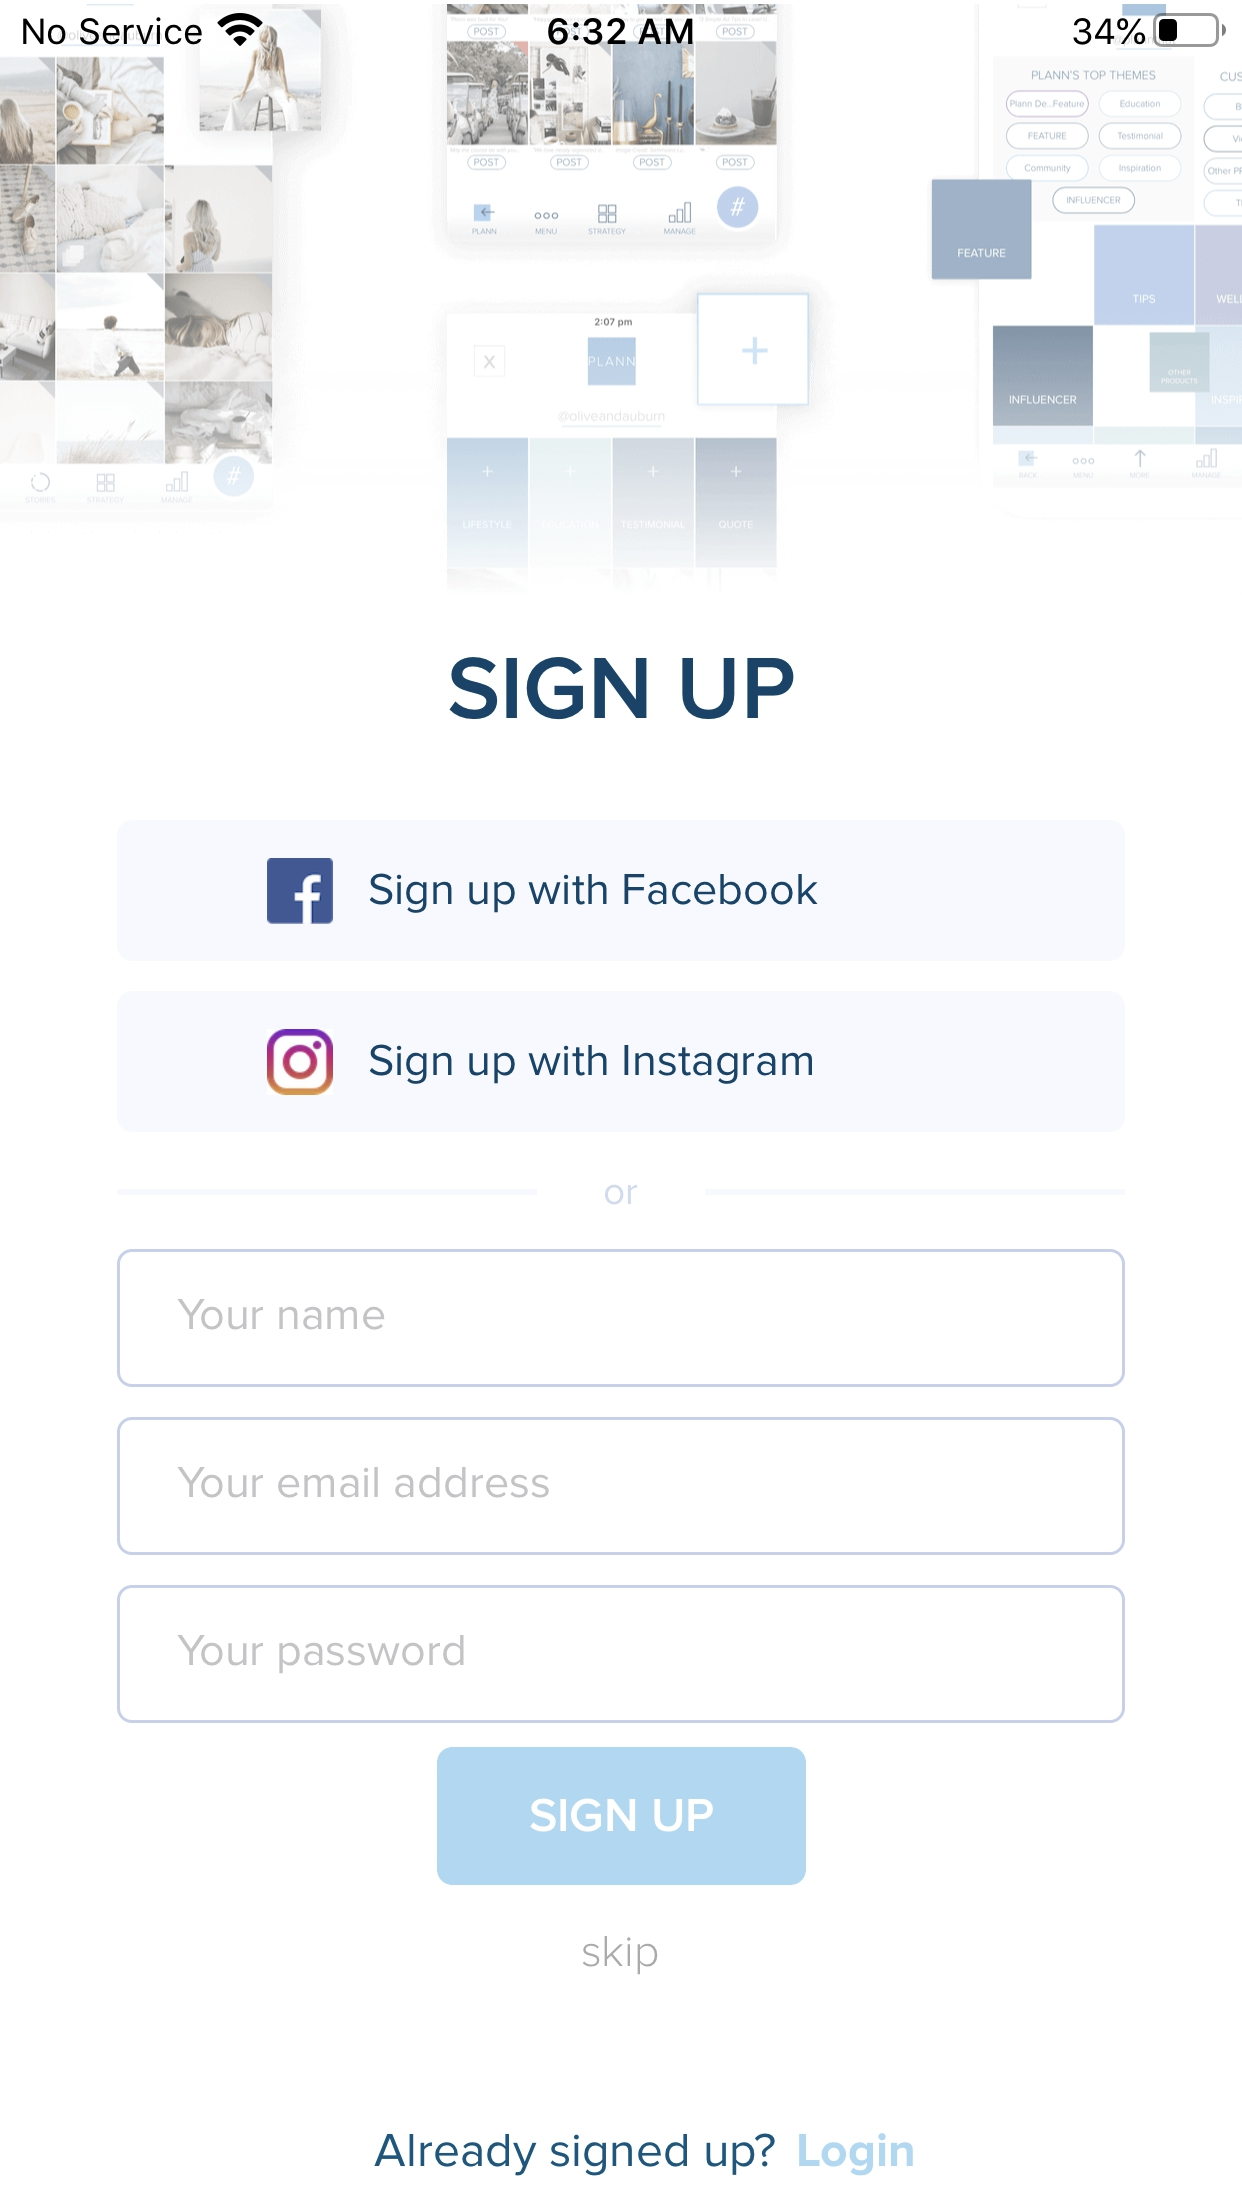EditText: (118, 1585, 1125, 1723), (118, 1416, 1125, 1554), (118, 1250, 1125, 1388)
Image: (2, 2, 1242, 594)
Text: (450, 658, 795, 720), (375, 2134, 775, 2176), (177, 1465, 552, 1498), (177, 1633, 467, 1676), (177, 1298, 387, 1331), (799, 2134, 913, 2176), (584, 1937, 657, 1974), (607, 1184, 638, 1206)
TextButton: (118, 820, 1125, 961), (118, 992, 1125, 1131), (438, 1747, 805, 1885)
UpperTaskBar: (2, 2, 1242, 49)
